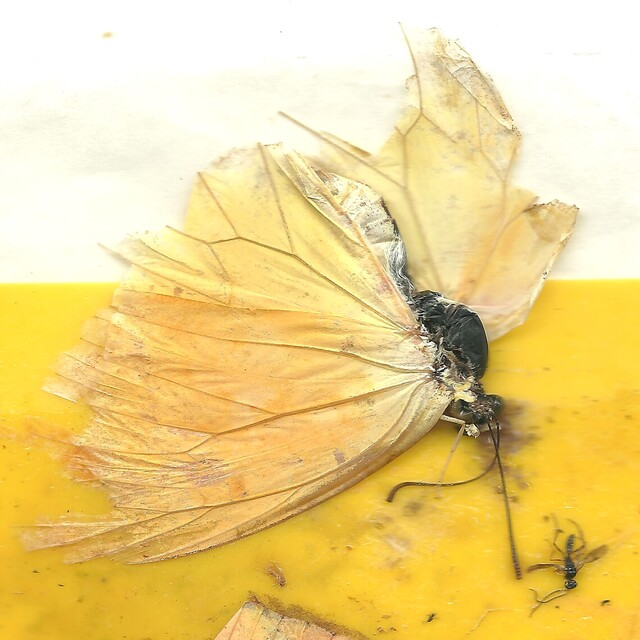Hymenoptera: (525, 519, 609, 613)
Lepidoptera: (31, 27, 580, 581)
